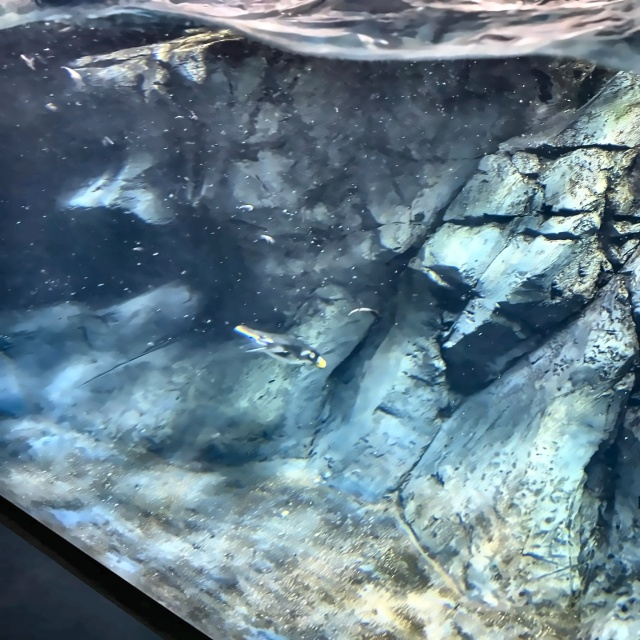puffin: (67, 31, 231, 97), (52, 149, 176, 229), (232, 324, 328, 372)
